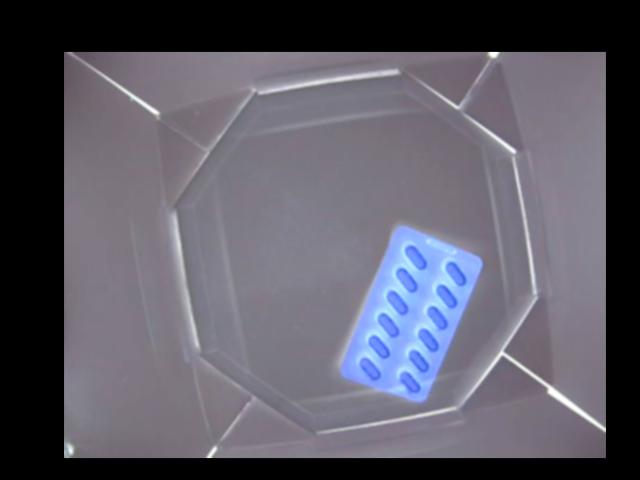Medicine: (338, 224, 481, 402)
